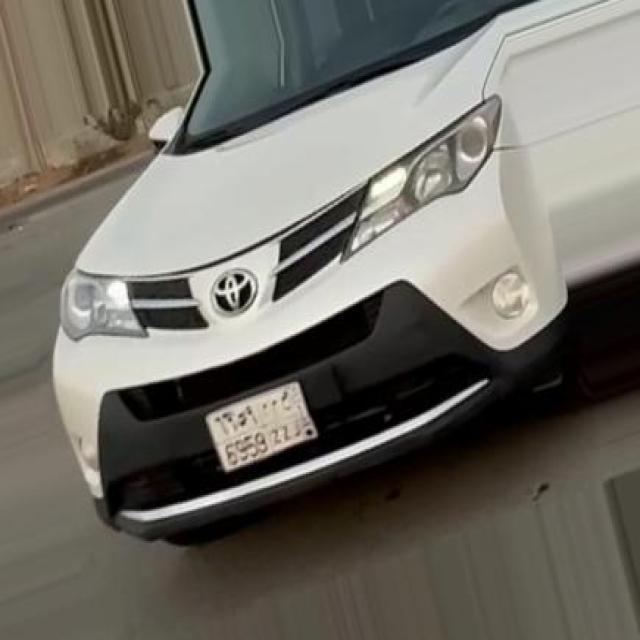Car-plate: (187, 363, 338, 498)
